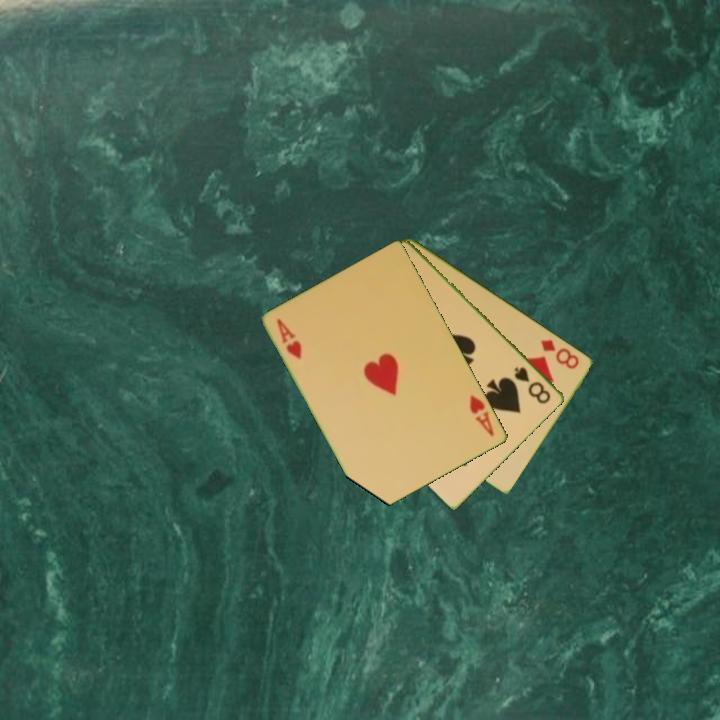8d: (537, 336, 583, 372)
8s: (511, 363, 554, 407)
Ah: (466, 391, 497, 440), (273, 315, 305, 362)
